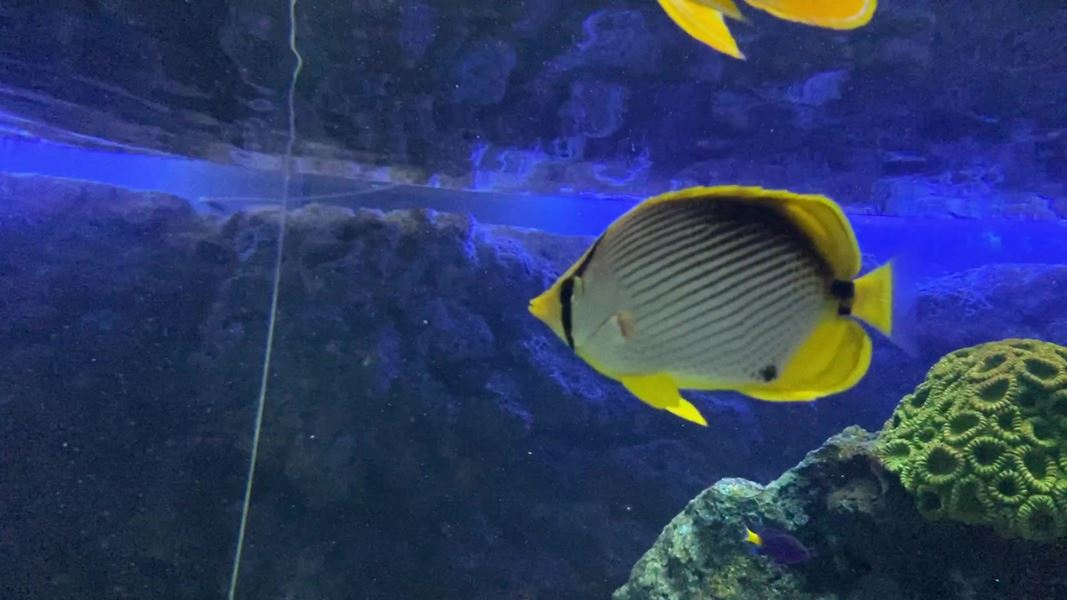Black-backed butterflyfish: (516, 170, 937, 441)
